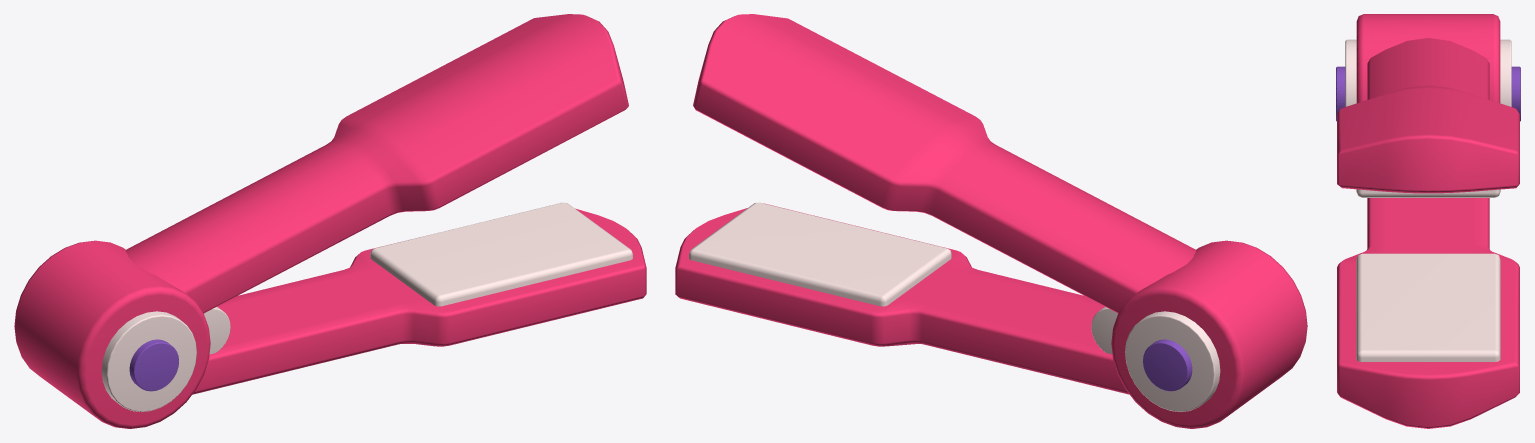
File: Store_17_Hair_Straightener_1.glb
3 views of the same model, side by side, from view 1: azimuth 30°, elevation 25°; view 2: azimuth 150°, elevation 25°; view 3: azimuth 270°, elevation 25° (orthographic). The views are drawn at different scales.
Visible parts, largest first — view 1: Store_17_Hair_Straightener_1; view 2: Store_17_Hair_Straightener_1; view 3: Store_17_Hair_Straightener_1.
Boxes of the visible parts, left/top/right/bottom form: Store_17_Hair_Straightener_1: left=14, top=14, right=646, bottom=428; Store_17_Hair_Straightener_1: left=675, top=14, right=1307, bottom=428; Store_17_Hair_Straightener_1: left=1336, top=14, right=1520, bottom=428.
Bounding box in the file's own units: 1.79 × 0.7873 × 0.4719.
1 material, 1 textured.
